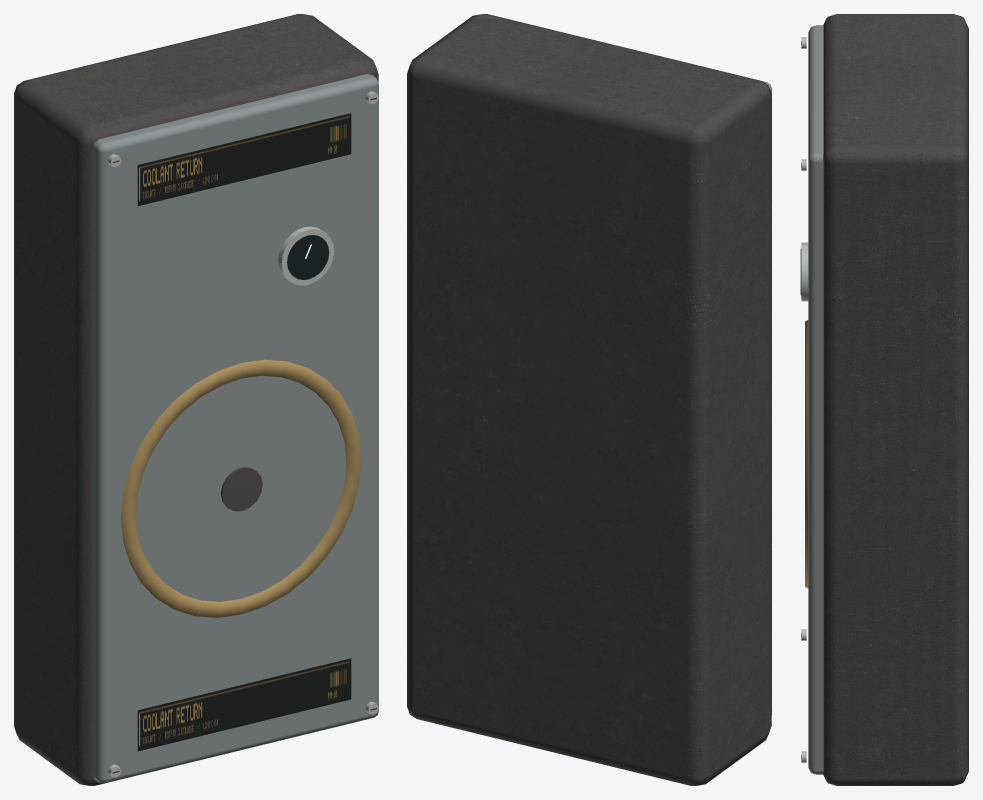
The model's file is coolant-valve.glb.
3 renders of one model, left to right at view 1: azimuth 30°, elevation 25°; view 2: azimuth 150°, elevation 25°; view 3: azimuth 270°, elevation 25°, orthographic. The views are drawn at different scales.
Visible parts, largest first — view 1: wall-housing, manual-wheel; view 2: wall-housing; view 3: wall-housing, manual-wheel.
Part boxes in pixels (x1,y1,x2,y2): wall-housing: [14, 14, 378, 785]; manual-wheel: [121, 359, 361, 617]; wall-housing: [407, 14, 771, 785]; wall-housing: [800, 14, 968, 785]; manual-wheel: [805, 320, 808, 588].
Bounding box in the file's own units: 0.62 × 1.3 × 0.31.
Materials: 8 (2 with a texture image).
